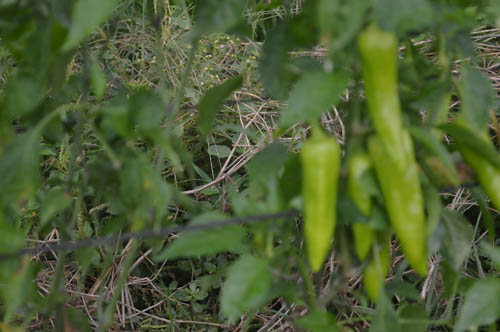ChiliPepper: (369, 137, 427, 267), (299, 137, 340, 273), (360, 29, 399, 135), (447, 114, 496, 196), (349, 153, 371, 253), (367, 232, 392, 296)
